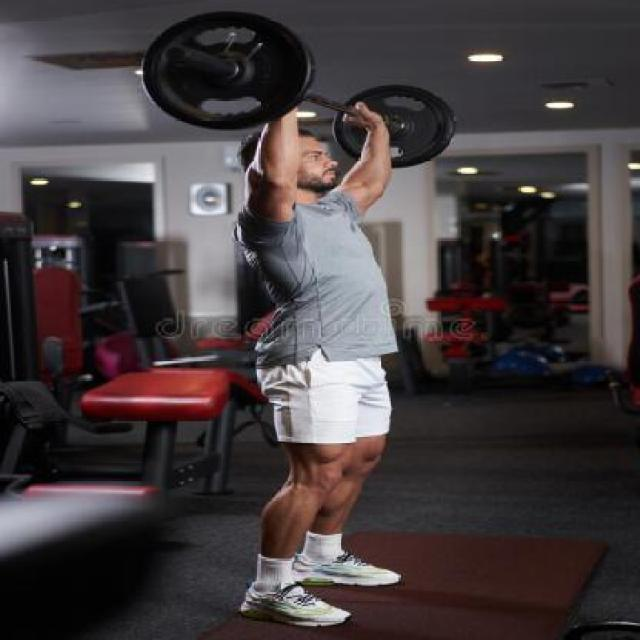barbell: (137, 5, 318, 134)
